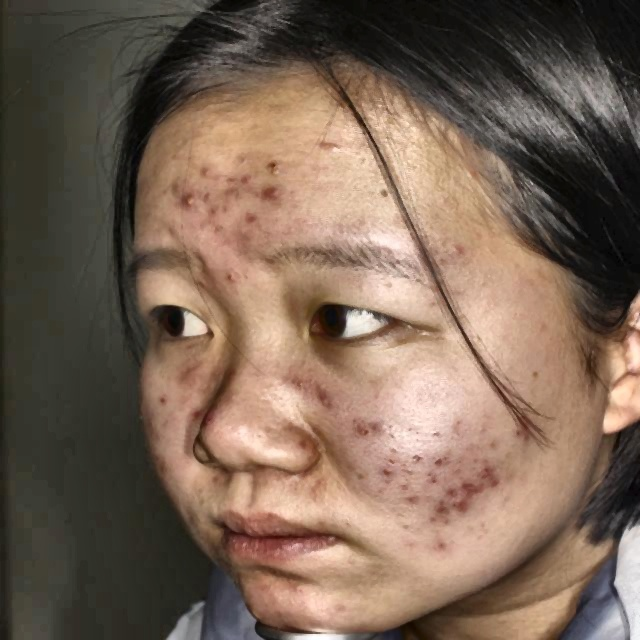papule: (325, 133, 353, 157), (243, 206, 270, 230), (175, 191, 202, 215), (287, 570, 309, 598), (509, 415, 532, 441), (437, 533, 464, 555), (423, 448, 448, 471), (312, 387, 336, 410), (264, 152, 287, 175), (221, 266, 243, 289), (429, 498, 456, 516), (205, 200, 231, 218), (363, 412, 386, 432), (194, 162, 227, 175), (265, 180, 286, 198), (214, 215, 233, 234), (378, 459, 398, 475), (238, 171, 258, 187), (453, 492, 470, 510), (475, 461, 498, 474), (400, 489, 420, 503), (486, 472, 502, 489), (459, 476, 481, 488)
